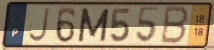5: (134, 5, 162, 45), (109, 7, 133, 44)
6: (55, 6, 77, 45)
B: (159, 5, 191, 46)
J: (27, 6, 51, 44)
M: (76, 7, 111, 44)
